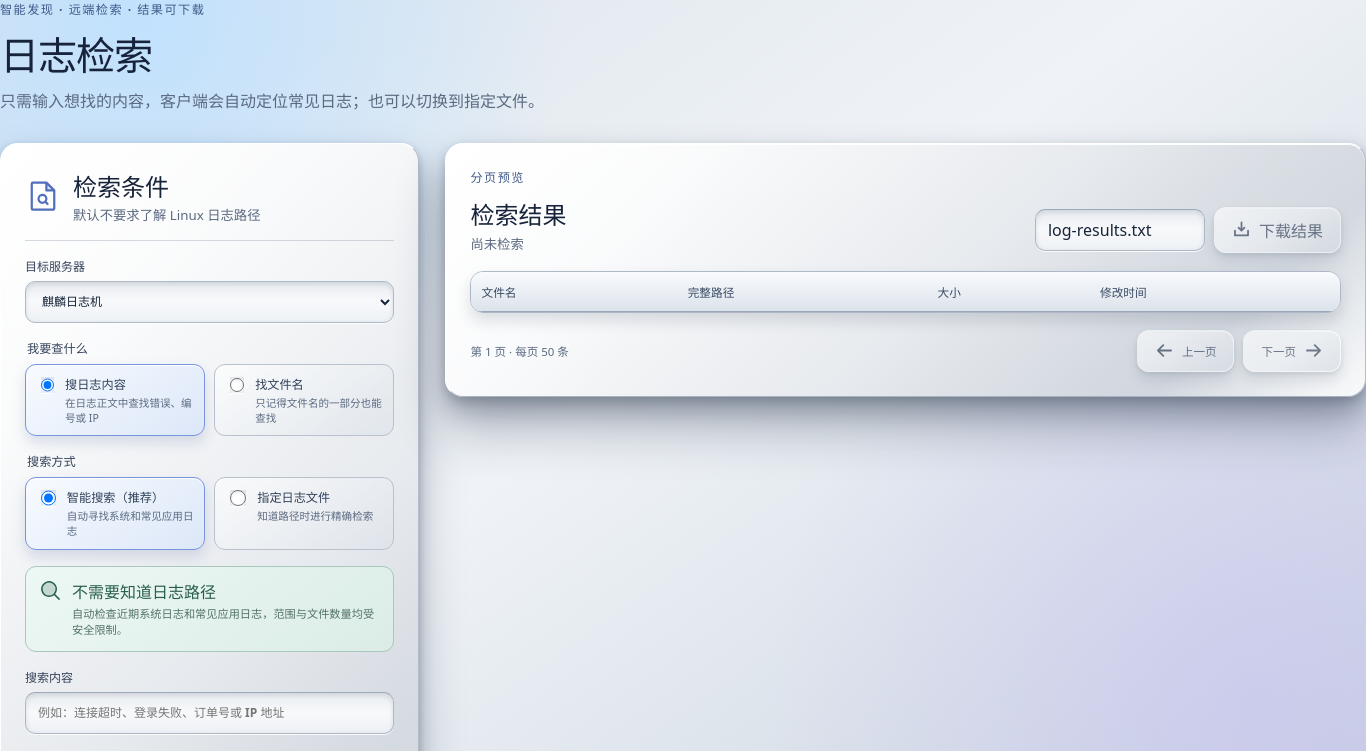
Scenario: LogSearchPage › reopens the same remote log directory from session cache
The image size is (1366, 751).
What coordinates should you click on to do the following:
click the radio button labelled "指定日志文件"
I would click on:
 (238, 498)
Its box is [230,490,246,506].
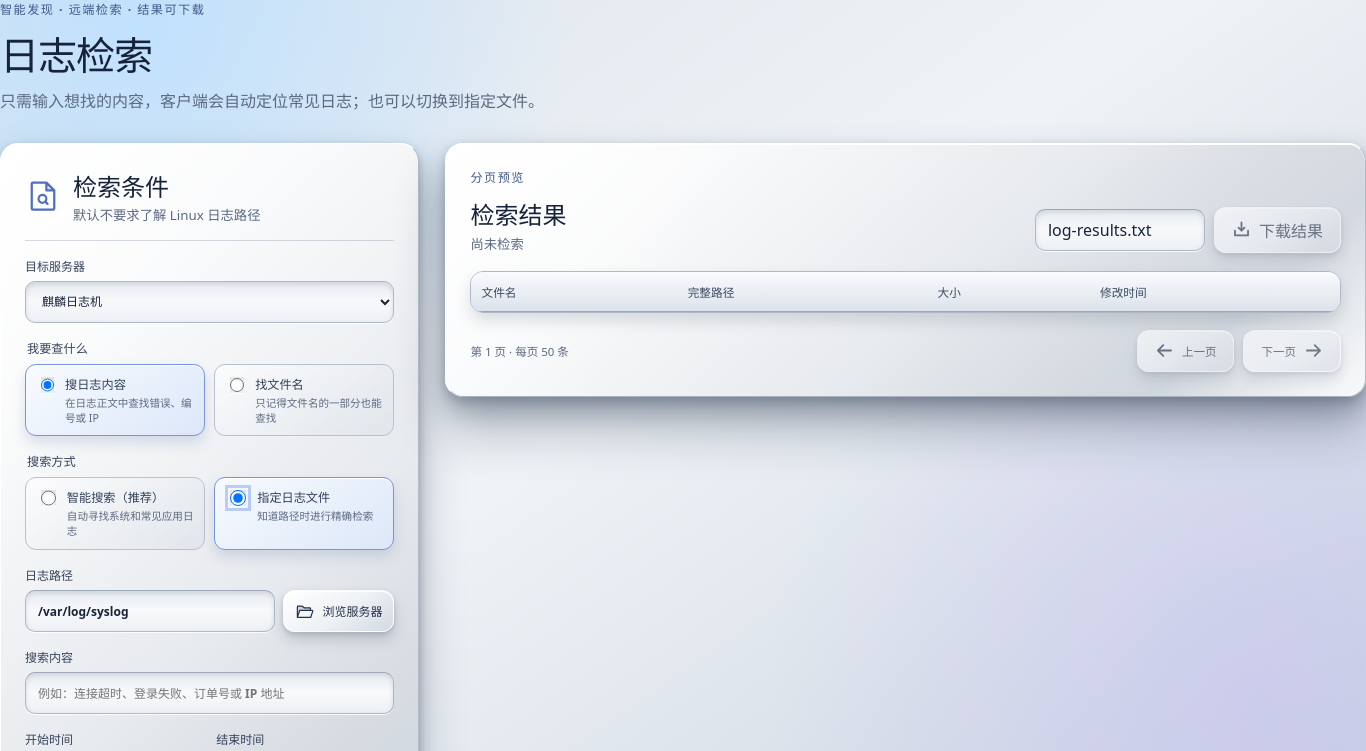
What coordinates should you click on to do the following:
click the button "浏览服务器"
I would click on:
 (339, 611)
Its box is [284,590,394,632].
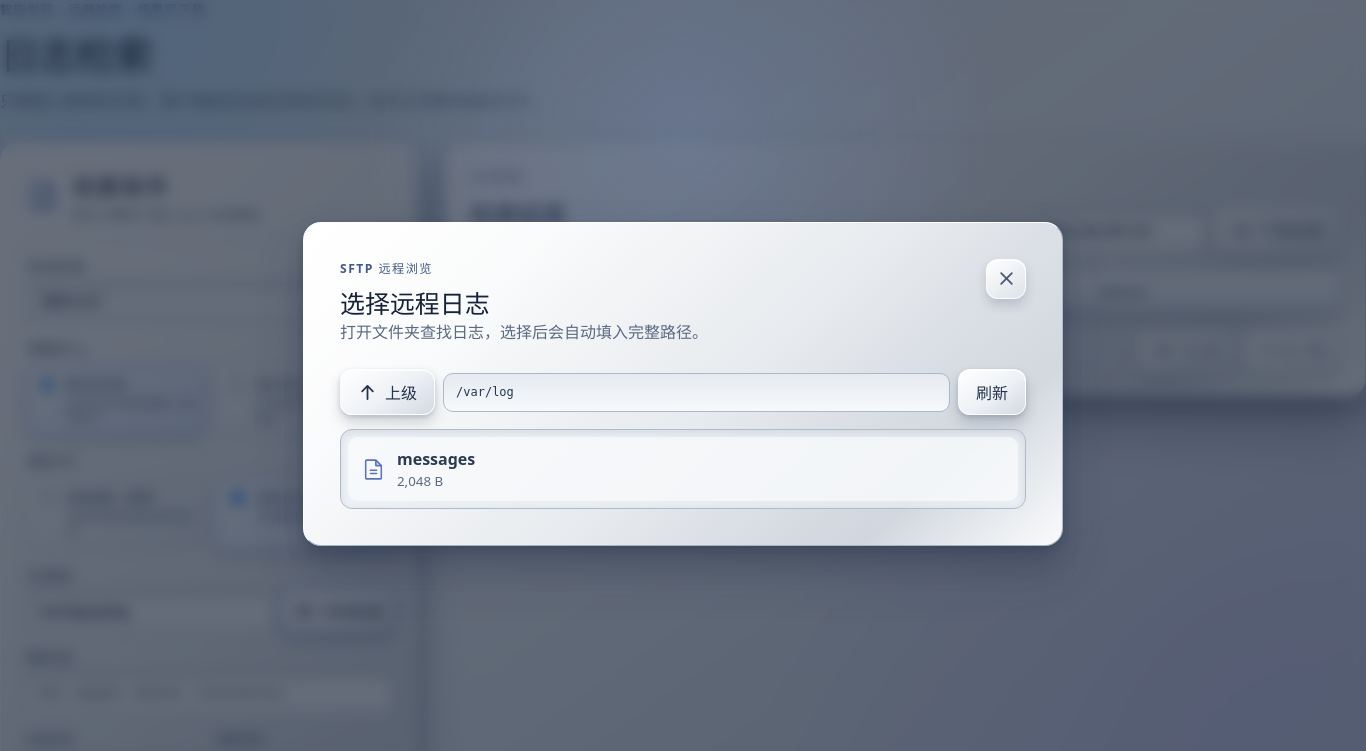
Expected: the button with aria-label "选择日志 messages" is shown, [348,438,1018,502]
What coordinates should you click on to do the following:
click the button named "关闭远程日志选择"
I would click on:
 (1006, 278)
Its box is [986,258,1026,298].
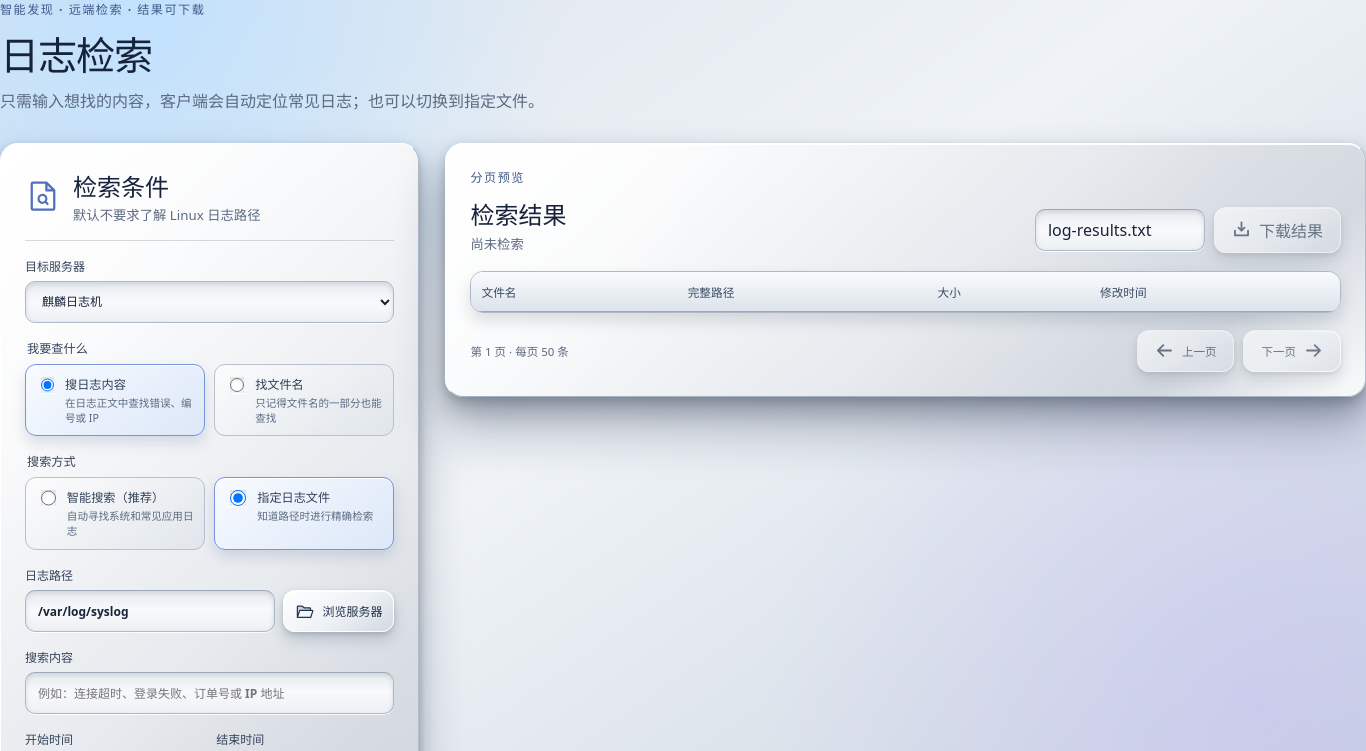
What coordinates should you click on to do the following:
click the button "浏览服务器"
I would click on:
 (339, 611)
Its box is [284,590,394,632].
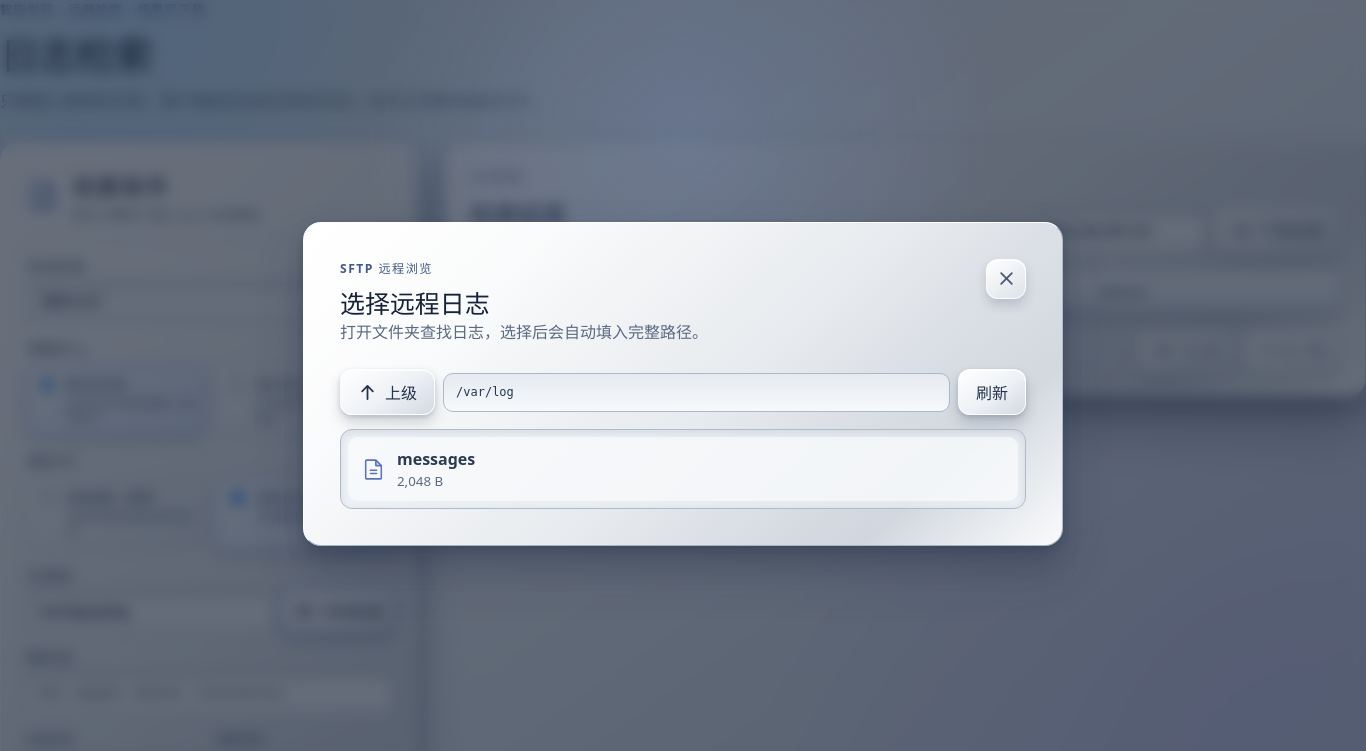
Expected: the button with aria-label "选择日志 messages" is shown, [348,438,1018,502]
